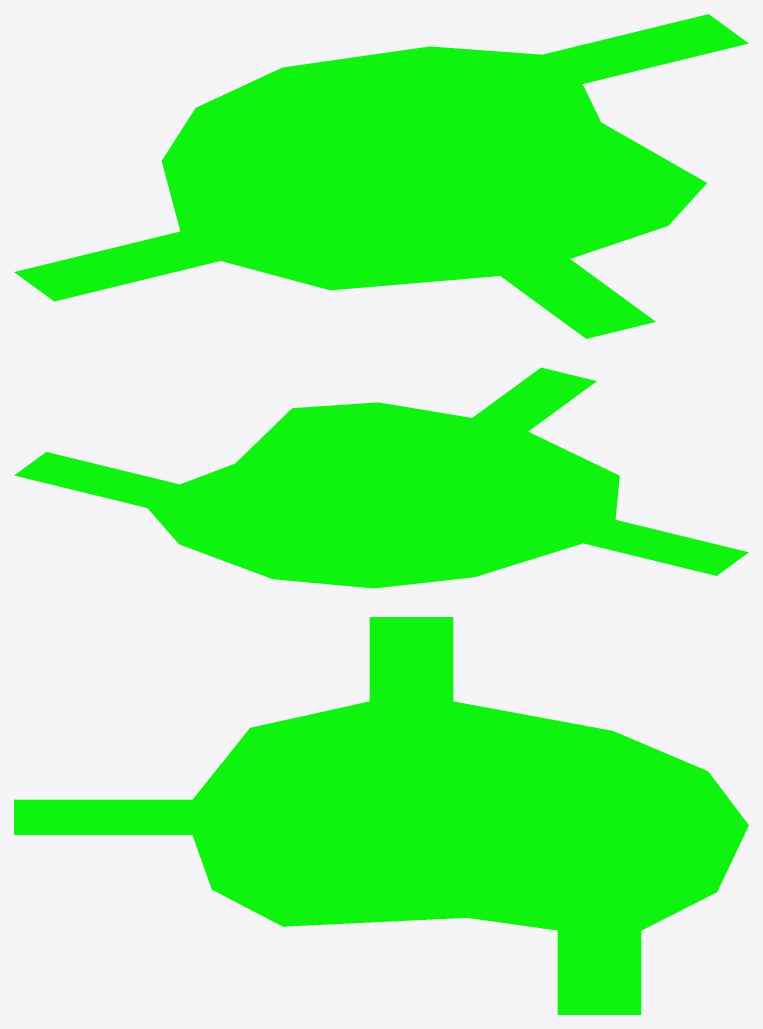
Rendered from s03a_td1-floor.glb.
3 renders of one model, top to bottom at view 1: azimuth 30°, elevation 25°; view 2: azimuth 150°, elevation 25°; view 3: azimuth 270°, elevation 25°, orthographic. The views are drawn at different scales.
Parts seen in each view (by area): view 1: collision_floor-colonly; view 2: collision_floor-colonly; view 3: collision_floor-colonly.
Boxes of the visible parts, x1,y1,x2,y2 form: collision_floor-colonly: (14,14,748,338); collision_floor-colonly: (14,367,748,588); collision_floor-colonly: (14,617,748,1014).
Size of the model in its own units: 67.5 by 0.1523 by 52.71.
